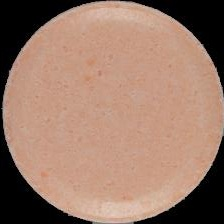33261-158: (0, 0, 224, 224)
